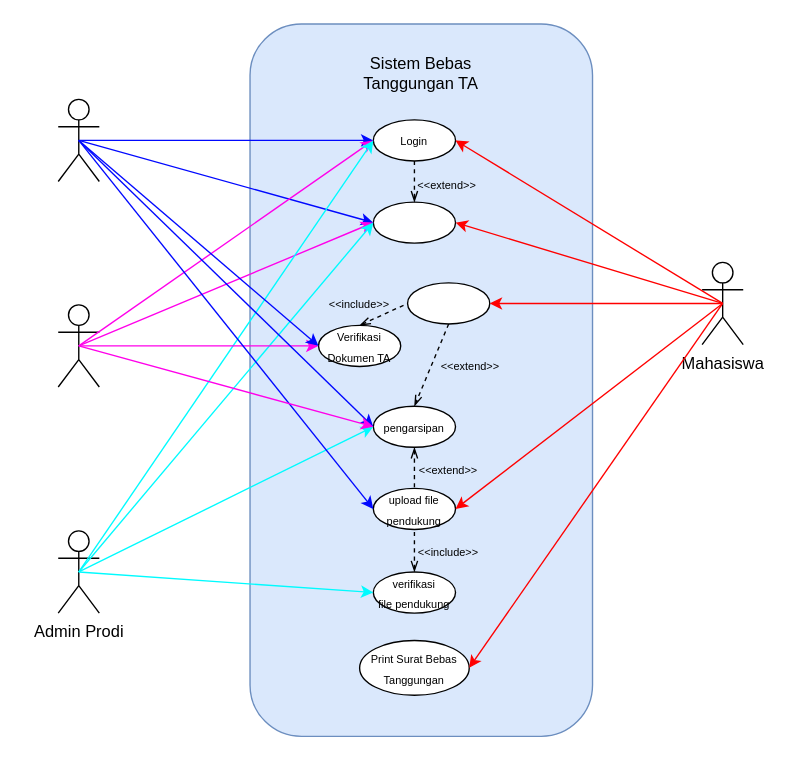
This 788x760 diagram has some shape labels left out. The centre of each missing label's shape, as x and y in pixels:
"Admin Jurusan" belongs at pixel 78 345.
"Managemen Biodata" belongs at pixel 414 222.
"Super Admin" belongs at pixel 78 140.
"Upload Dokumen TA" belongs at pixel 448 303.
